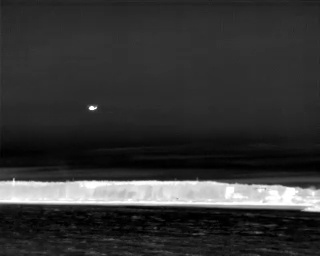HELICOPTER: (85, 101, 101, 115)
